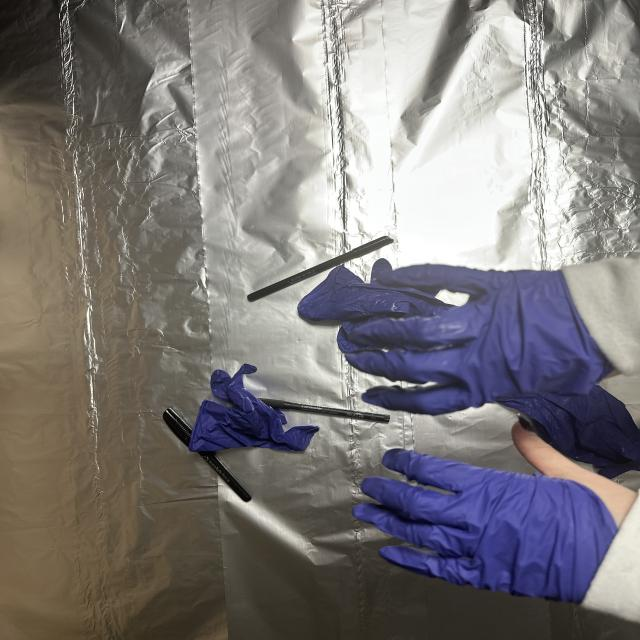glove_partial: (349, 414, 635, 608), (343, 258, 620, 415)
